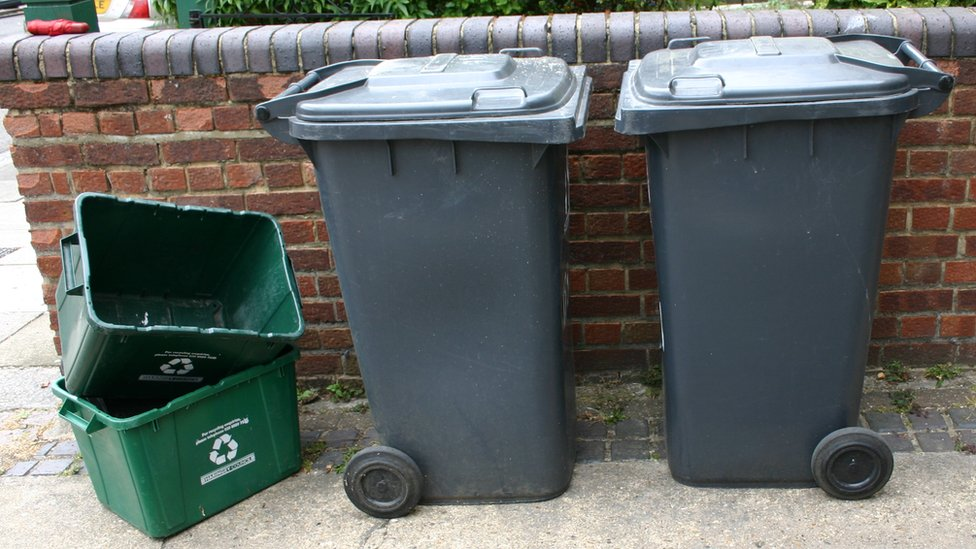bin_empty: (256, 48, 591, 516), (615, 36, 953, 498)
bulk_waste: (56, 193, 303, 395), (52, 347, 300, 537)
